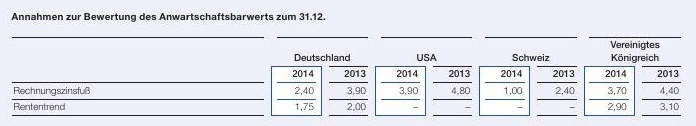table: (0, 0, 696, 126)
